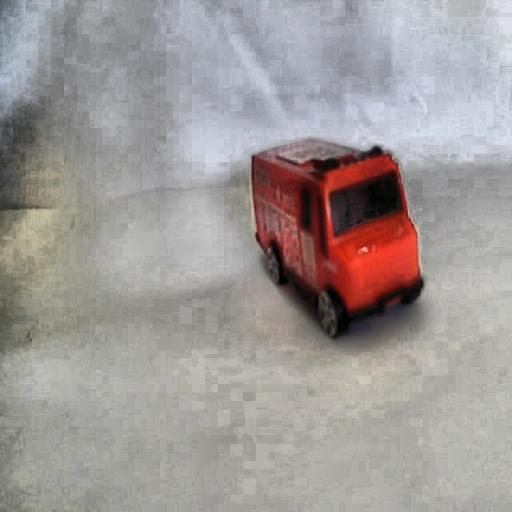fire_truck: (243, 149, 427, 338)
